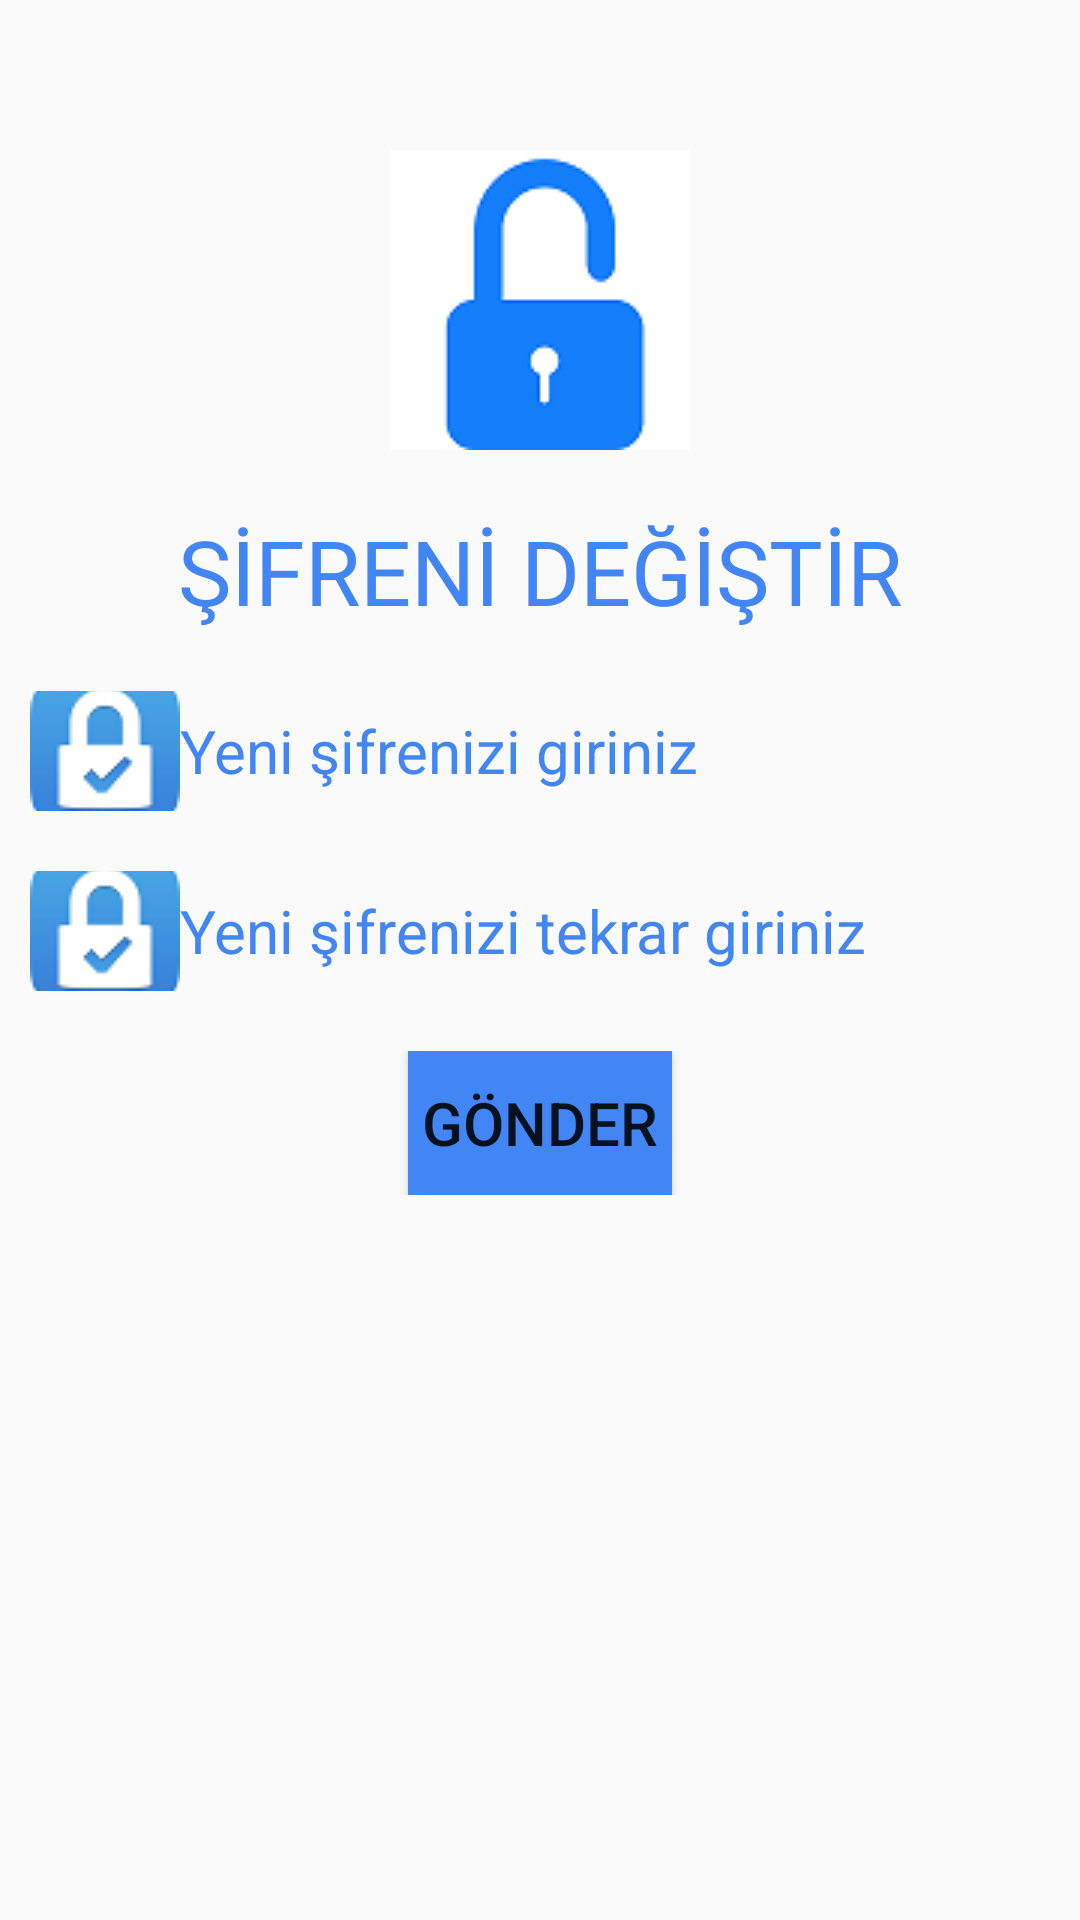

Icon bounding boxes for this 1080px×1920px phone screenshot, format (x1, y1, x2, y2):
lockicon: (445, 158, 646, 450)
